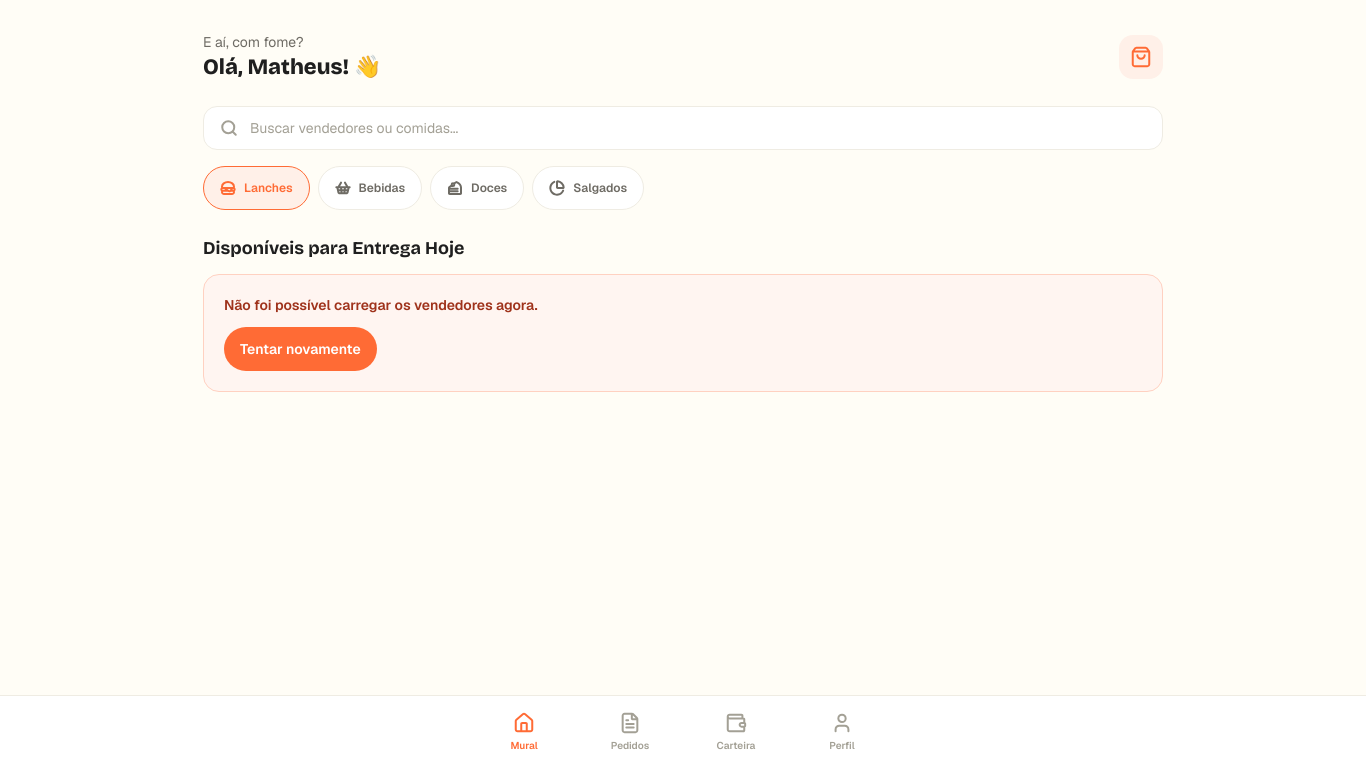
Scenario: HomePage › shows an error and retries both API requests
Expected: the message shows "Não foi possível carregar os vendedores agora.", [224,296,538,314]
What coordinates should you click on to do the following:
click the button "Tentar novamente"
I would click on:
 (300, 348)
Its box is [224,326,377,370].
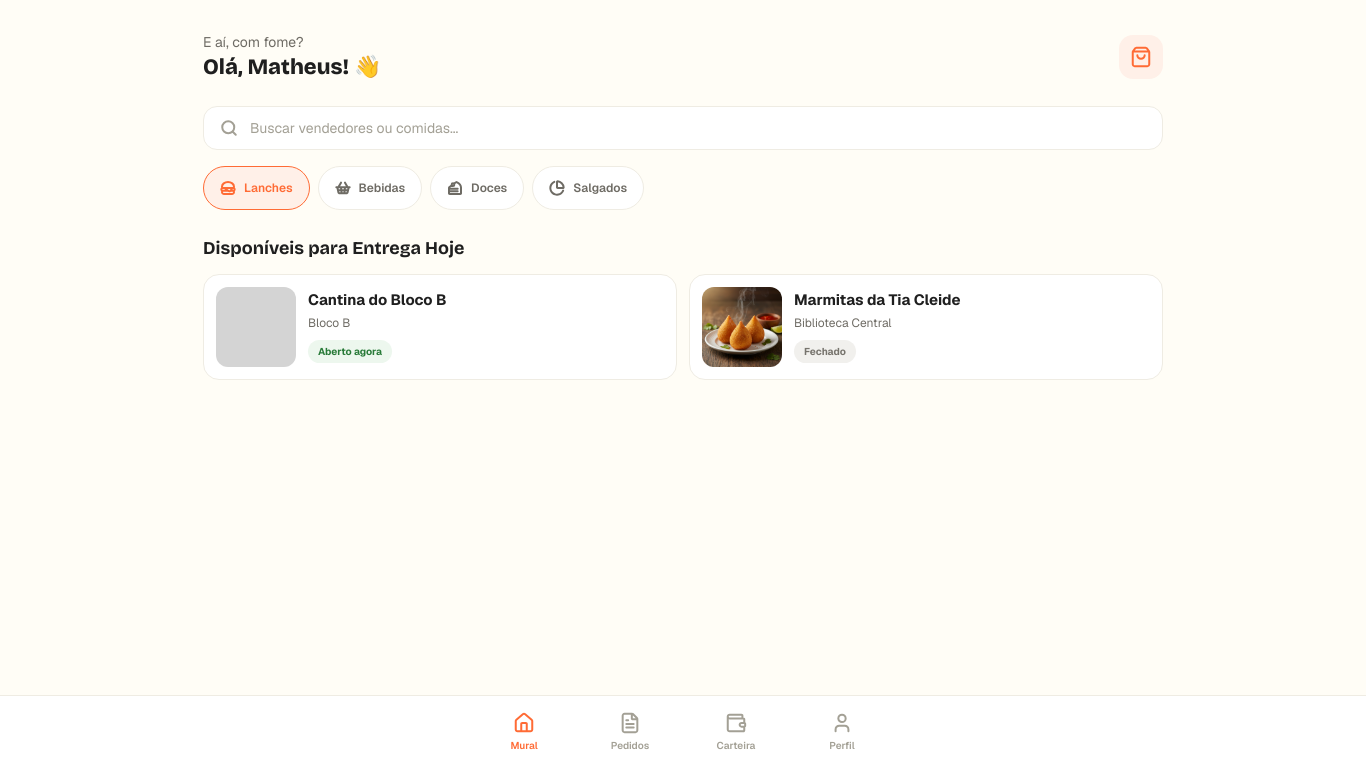
Expected: the heading "Cantina do Bloco B" is shown, [308,290,447,308]
